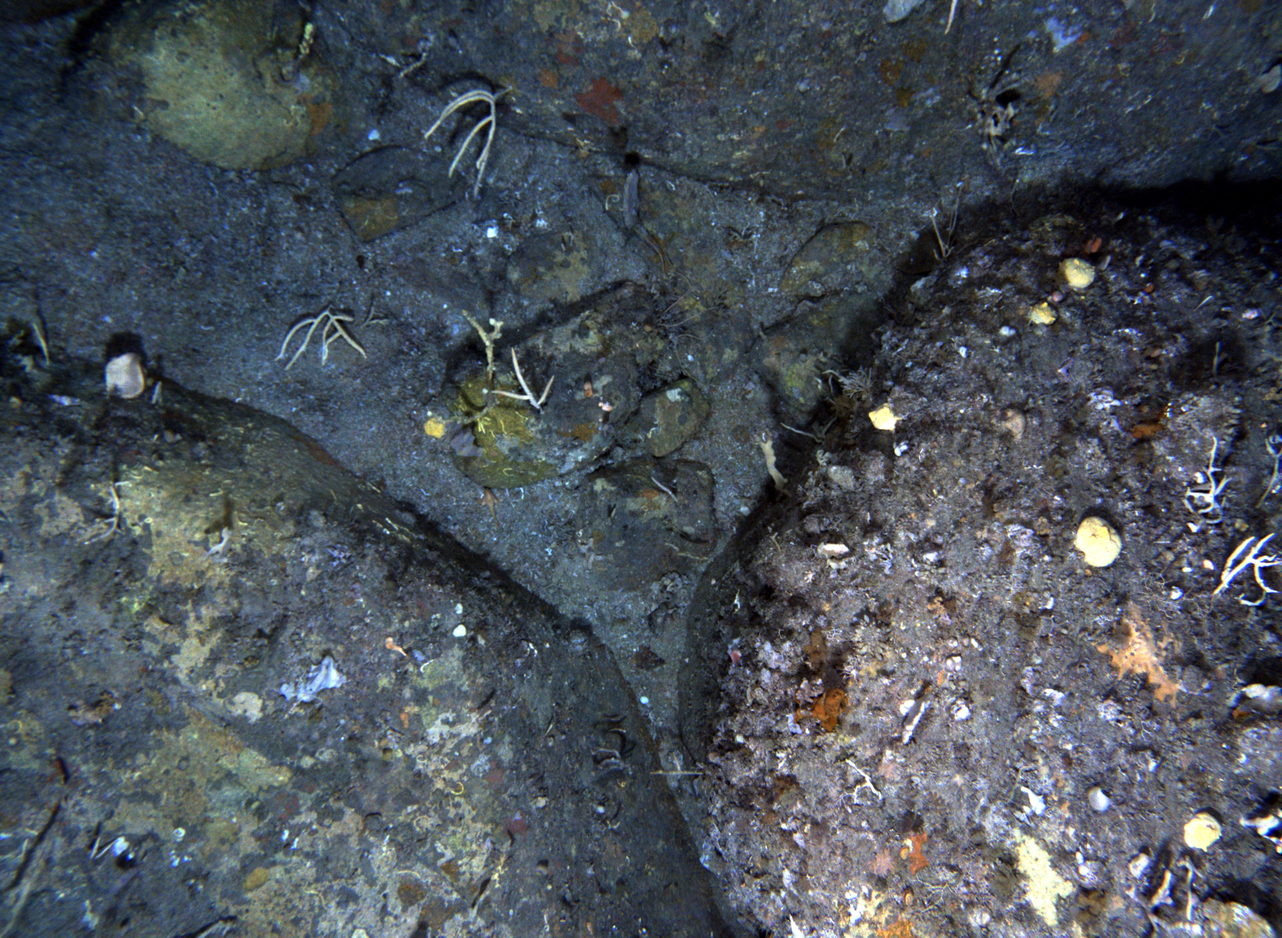Brachionichthyidae: (475, 488, 503, 528)
